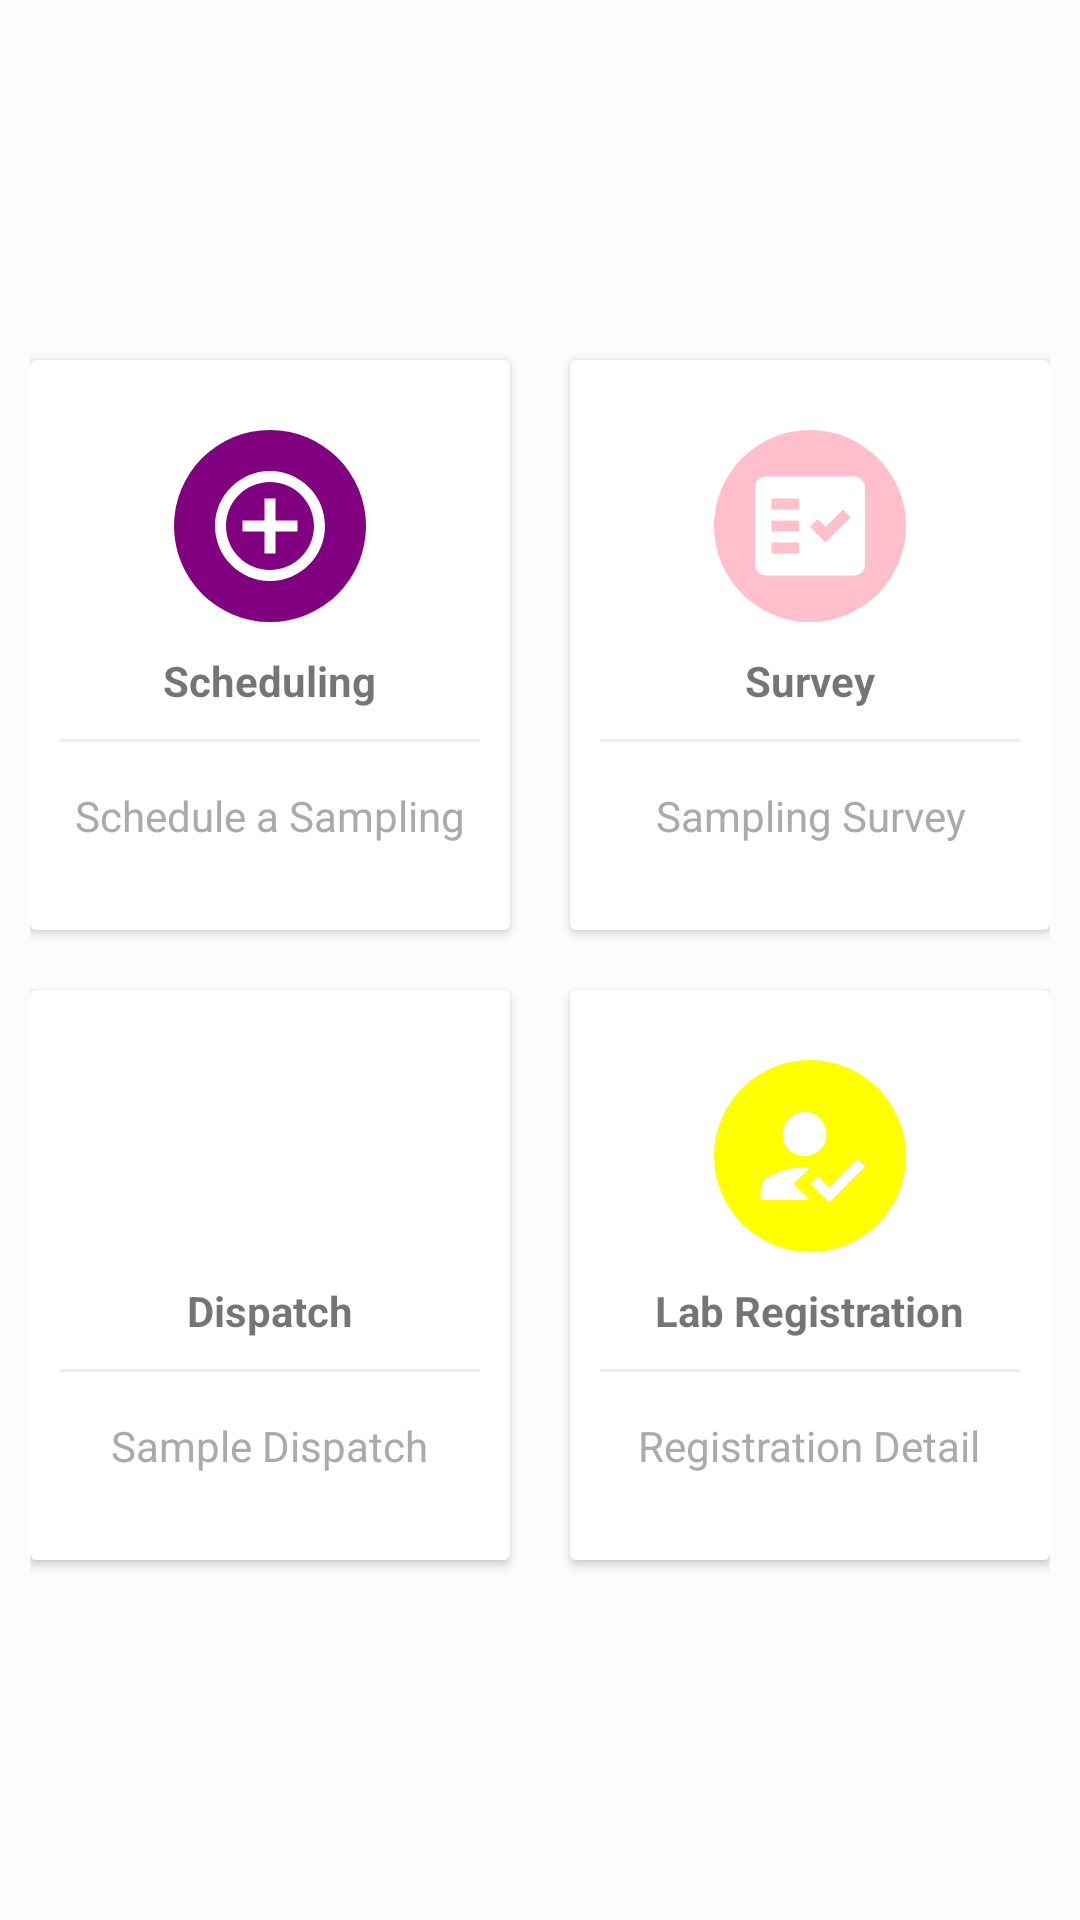

Where to tap for icons on this 1080×1920 app screen, as point (x, y):
control point: point (270, 526)
fact check: point (810, 526)
how to reg: point (810, 1156)
